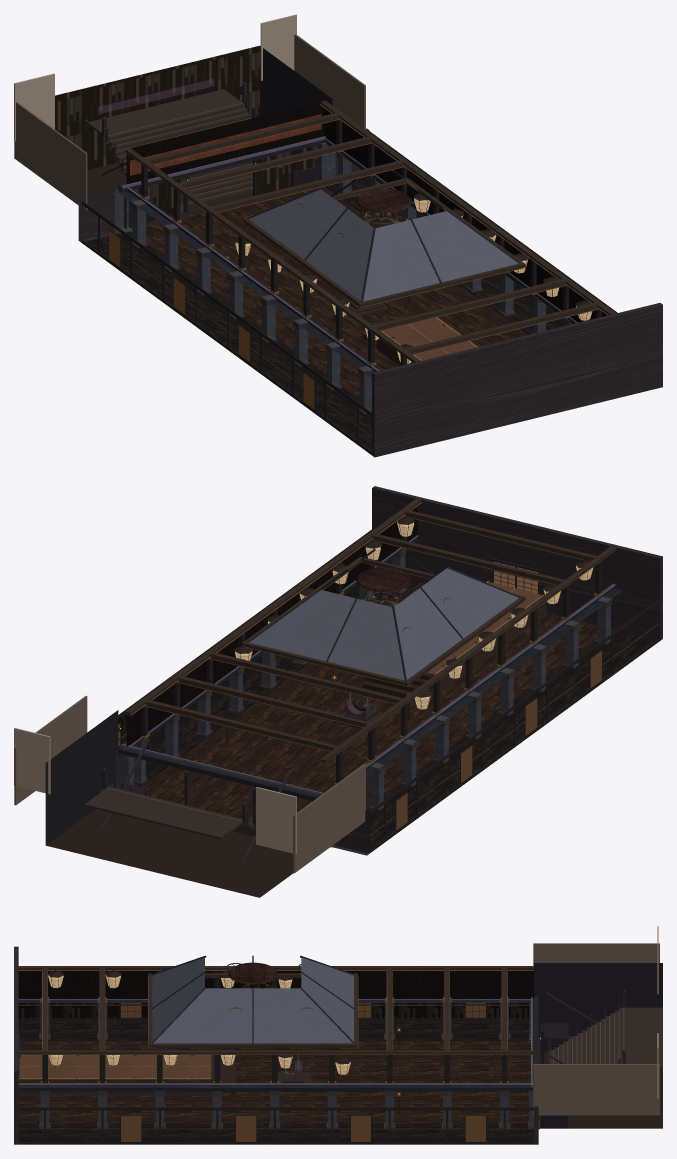
The model's file is haunted-mansion-1.glb.
3 renders of one model, top to bottom at view 1: azimuth 30°, elevation 25°; view 2: azimuth 150°, elevation 25°; view 3: azimuth 270°, elevation 25°, orthographic. The views are drawn at different scales.
Visible parts, largest first — view 1: object 13, object 66, object 17, object 1, object 58, object 2, void-cap (×2), object 10, object 68, object 62, object 7, object 9 (+14 smaller); view 2: object 1, object 13, object 66, object 17, object 2, object 60, void-cap (×2), object 7, object 68, object 57, object 9, object 10 (+13 smaller); view 3: object 1, object 17, object 2, object 66, void-cap, object 10, object 57, object 68, object 9, object 62, object 3, object 7 (+18 smaller).
Part boxes in pixels (x1,y1,x2,y2): object 13: [78, 128, 662, 457]; object 66: [82, 100, 615, 437]; object 17: [249, 185, 518, 301]; object 1: [82, 186, 526, 440]; object 58: [55, 45, 316, 220]; object 2: [81, 176, 564, 454]; void-cap (×2): [14, 14, 365, 210]; object 10: [126, 102, 606, 322]; object 68: [82, 119, 616, 454]; object 62: [84, 89, 252, 207]; object 7: [115, 142, 566, 411]; object 9: [118, 139, 575, 377]; object 1: [141, 582, 659, 851]; object 13: [115, 486, 662, 855]; object 66: [118, 498, 659, 836]; object 17: [249, 558, 518, 680]; object 2: [134, 580, 659, 852]; object 60: [46, 809, 293, 897]; void-cap (×2): [14, 696, 365, 873]; object 7: [115, 555, 610, 808]; object 68: [118, 516, 659, 853]; object 57: [45, 710, 118, 844]; object 9: [118, 537, 622, 800]; object 10: [126, 506, 417, 747]; object 1: [18, 1041, 530, 1123]; object 17: [152, 957, 353, 1043]; object 2: [18, 1020, 533, 1144]; object 66: [18, 966, 533, 1129]; void-cap: [533, 943, 659, 1115]; object 10: [18, 971, 533, 998]; object 57: [534, 963, 662, 1035]; object 68: [18, 971, 533, 1144]; object 9: [18, 996, 538, 1091]; object 62: [549, 1007, 662, 1068]; object 3: [18, 1055, 211, 1078]; object 7: [40, 1000, 533, 1127].
Bounding box in the file's own units: 19 × 7.89 × 41.8.
Materials: 74 (32 with a texture image).
